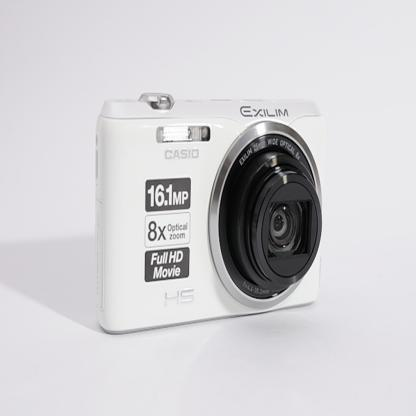Camera: (98, 87, 322, 340)
